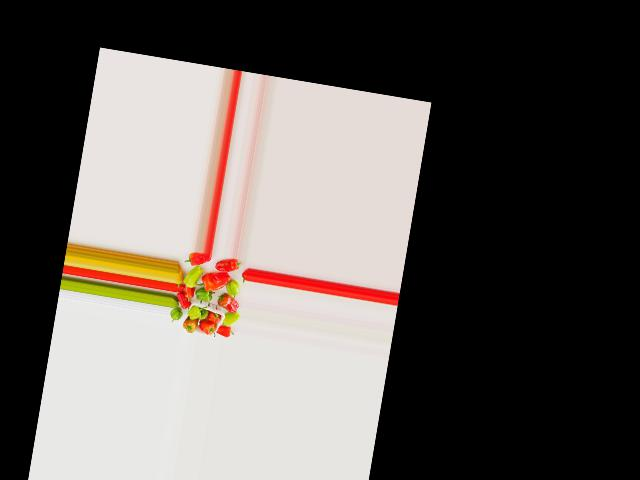bell_pepper: (183, 249, 208, 269)
